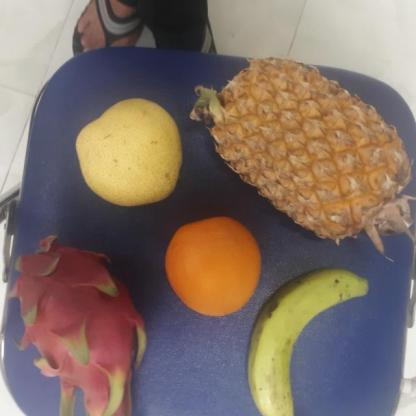banana: (249, 266, 362, 416)
orange: (164, 216, 263, 318)
pear: (74, 97, 189, 206)
pineapple: (213, 61, 416, 238)
pitaya: (1, 234, 149, 415)
